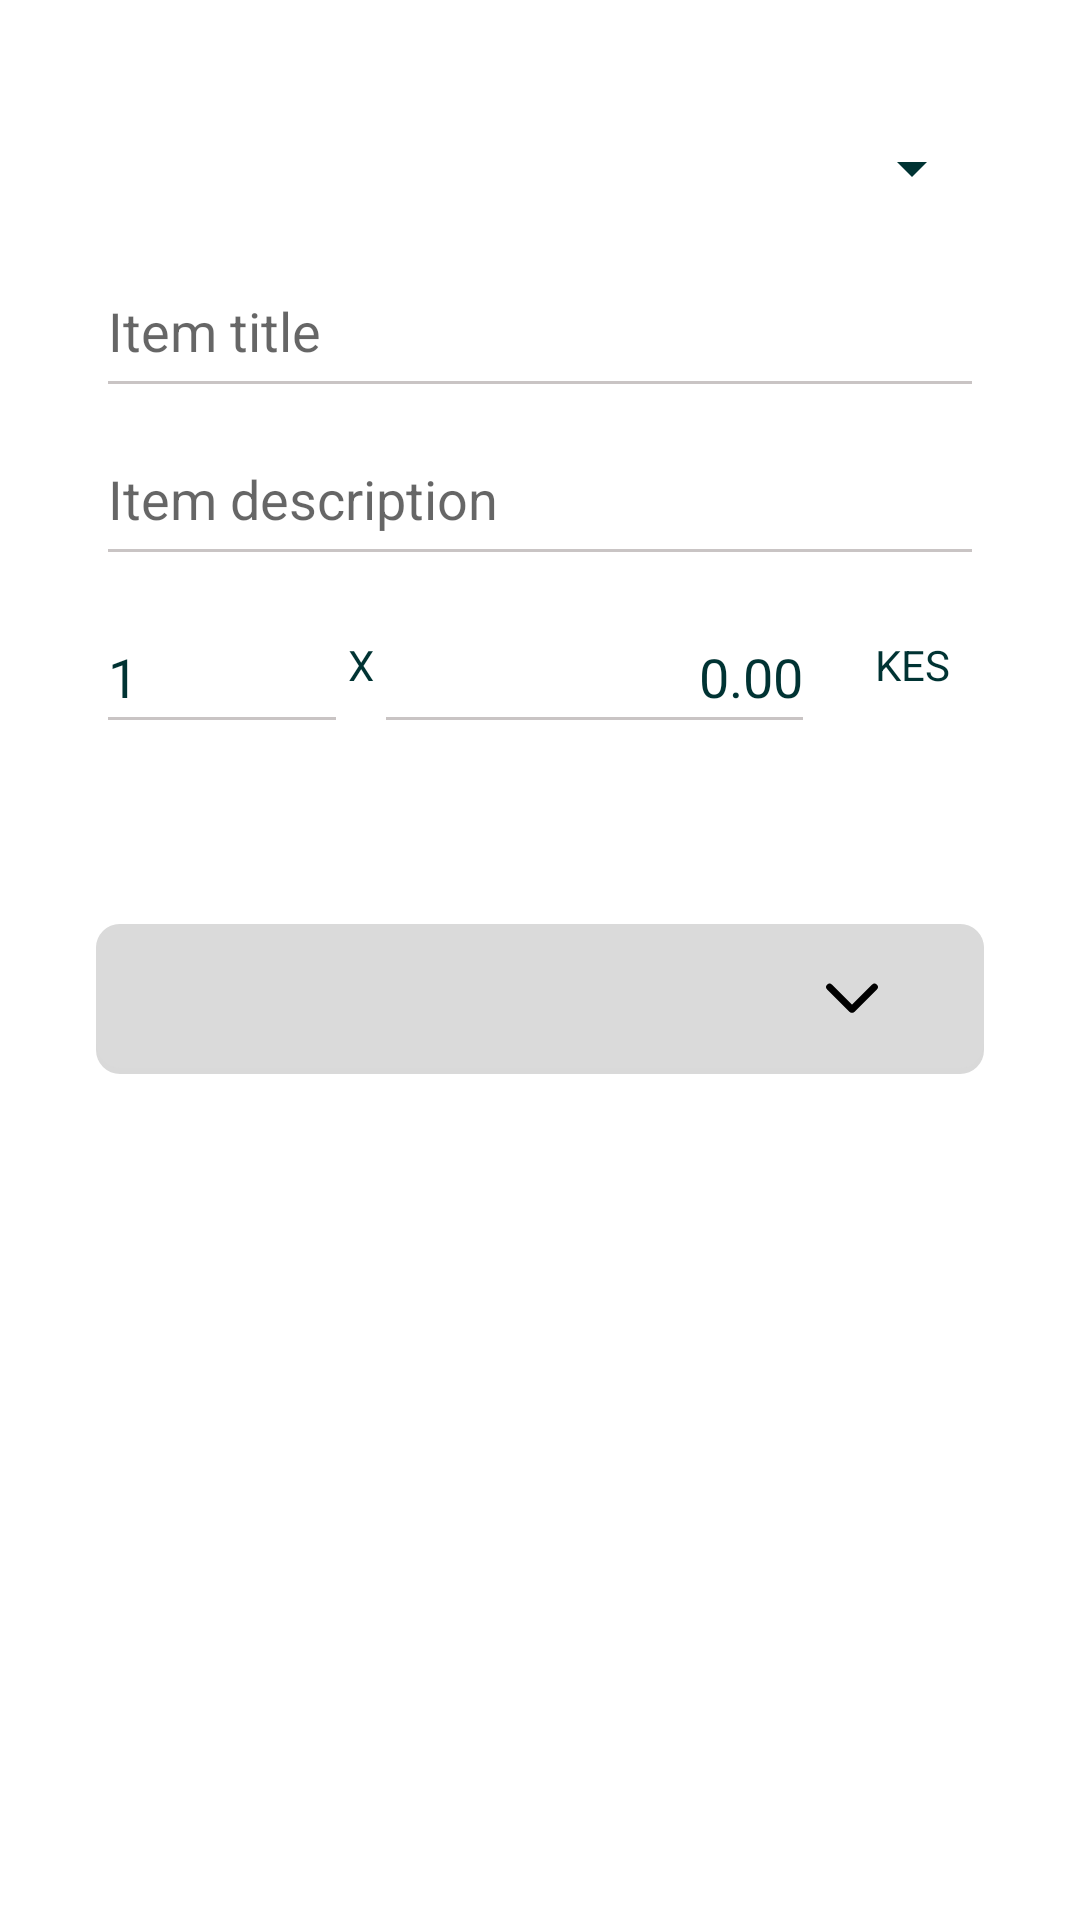

Named icons in this screenshot (1080 × 1920) and their bounding boxes, (x1, y1, x2, y2):
Minimize item image: (826, 983, 878, 1013)
